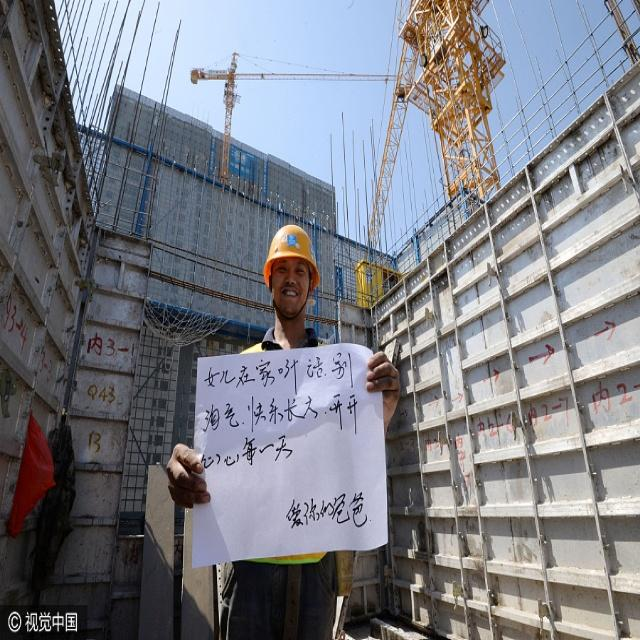helmet: (261, 294, 319, 426)
